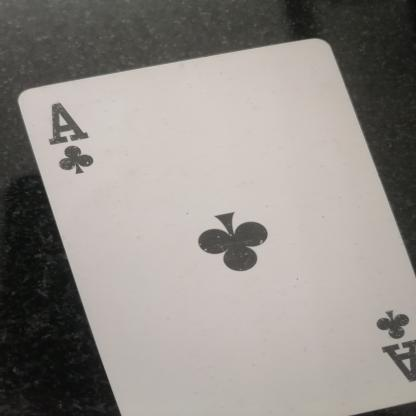AC: (36, 100, 108, 181), (371, 305, 416, 389)
